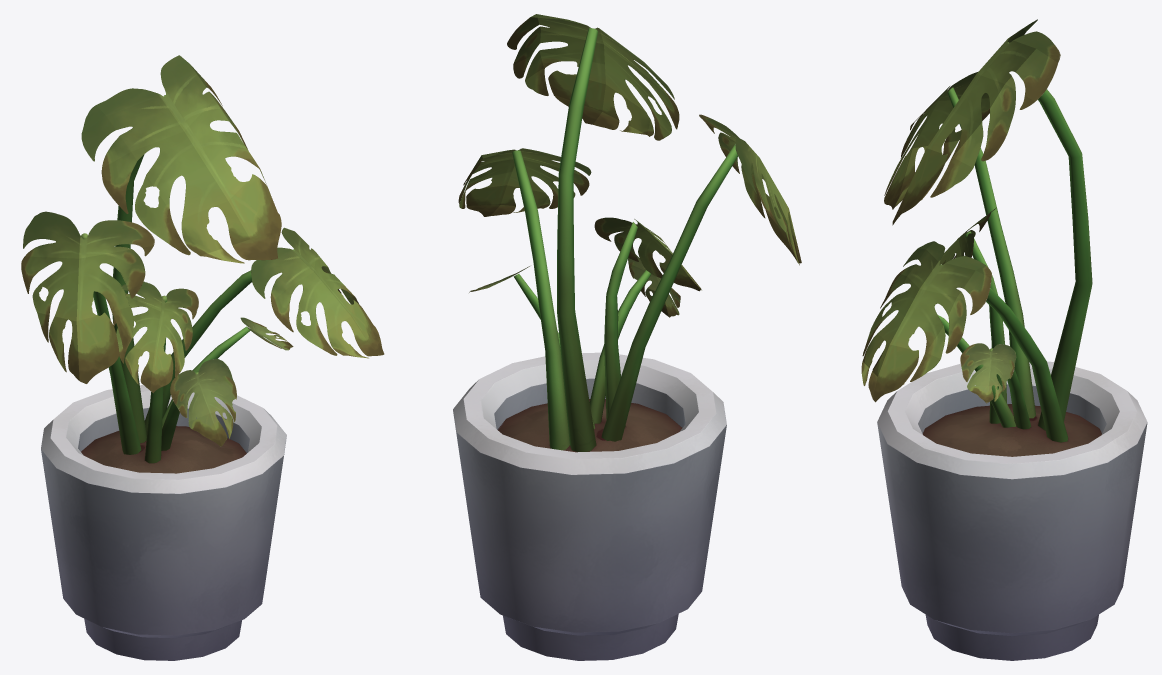
File: MDL_MonsteraLeafCheck.fbx
3 renders of one model, left to right at view 1: azimuth 30°, elevation 25°; view 2: azimuth 150°, elevation 25°; view 3: azimuth 270°, elevation 25°, orthographic. The views are drawn at different scales.
Visible parts, largest first — view 1: MDL_MonsteraLeafCheck; view 2: MDL_MonsteraLeafCheck; view 3: MDL_MonsteraLeafCheck.
Part boxes in pixels (box(x1,y1,x2,y2)): MDL_MonsteraLeafCheck: box(21, 55, 384, 660); MDL_MonsteraLeafCheck: box(453, 14, 801, 660); MDL_MonsteraLeafCheck: box(861, 19, 1147, 660).
Size of the model in its own units: 104 by 160 by 74.83.
